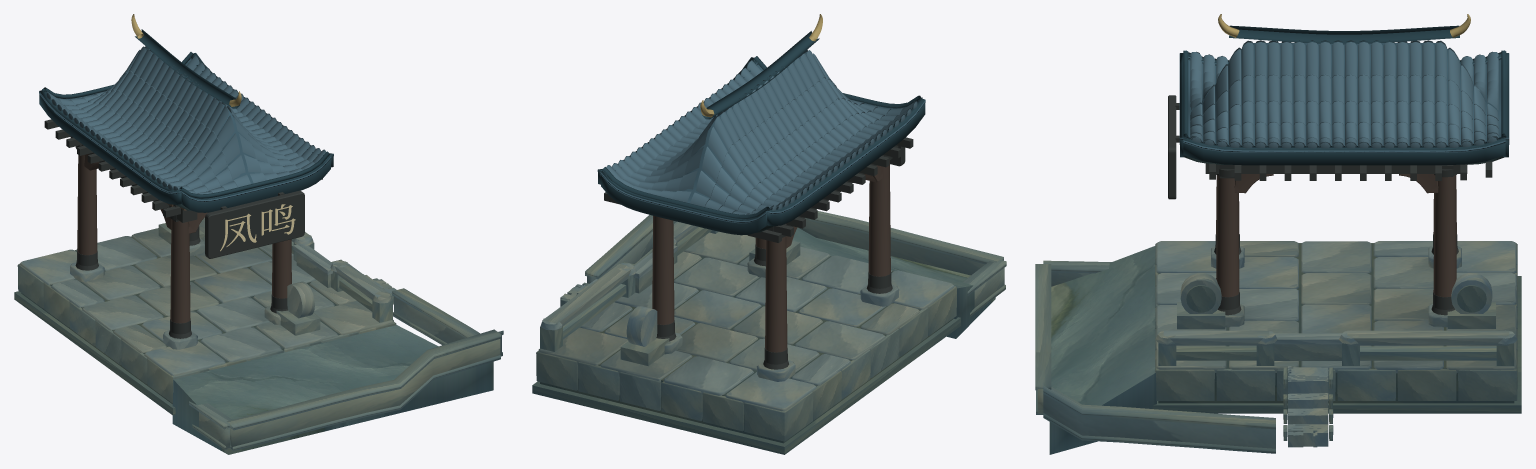
Rendered from gate-h35.glb.
3 renders of one model, left to right at view 1: azimuth 30°, elevation 25°; view 2: azimuth 150°, elevation 25°; view 3: azimuth 270°, elevation 25°, orthographic. The views are drawn at different scales.
Parts seen in each view (by area): view 1: H35 clean painted platform, stone wings and exact stairs, H35 quiet cool-grey barrel-tiled roofs, H35 thick ink eaves and grounded framework, H35 old bronze and readable name board; view 2: H35 clean painted platform, stone wings and exact stairs, H35 quiet cool-grey barrel-tiled roofs, H35 thick ink eaves and grounded framework; view 3: H35 clean painted platform, stone wings and exact stairs, H35 quiet cool-grey barrel-tiled roofs, H35 thick ink eaves and grounded framework.
Boxes of the visible parts, box(x1,y1,x2,y2) form: H35 clean painted platform, stone wings and exact stairs: box(14, 217, 503, 454); H35 quiet cool-grey barrel-tiled roofs: box(39, 46, 333, 202); H35 thick ink eaves and grounded framework: box(39, 29, 333, 338); H35 old bronze and readable name board: box(131, 14, 295, 251); H35 clean painted platform, stone wings and exact stairs: box(532, 209, 1006, 454); H35 quiet cool-grey barrel-tiled roofs: box(597, 50, 925, 223); H35 thick ink eaves and grounded framework: box(598, 31, 925, 369); H35 clean painted platform, stone wings and exact stairs: box(1035, 241, 1521, 454); H35 quiet cool-grey barrel-tiled roofs: box(1179, 40, 1509, 152); H35 thick ink eaves and grounded framework: box(1168, 25, 1508, 315).
Bounding box in the file's own units: 4.79 × 4.63 × 6.04.
4 materials, 2 textured.
